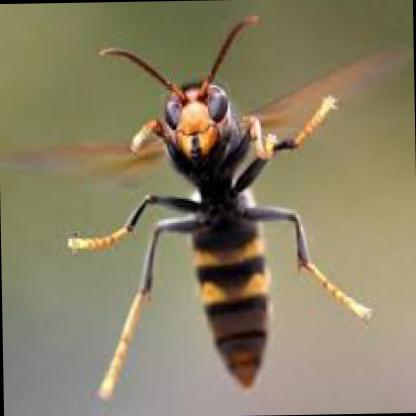asian: (37, 15, 388, 387)
